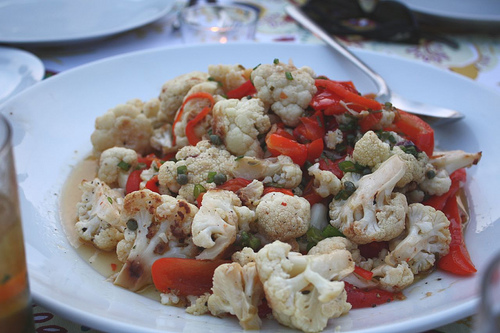cauliflower: (253, 243, 357, 331), (253, 189, 311, 242)
